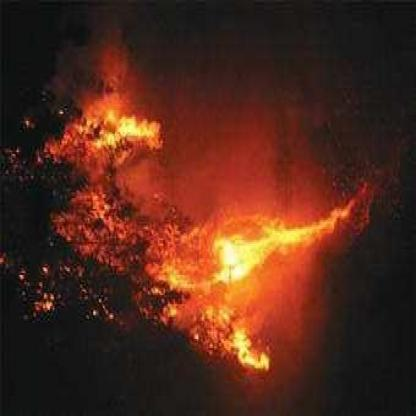fire: (206, 204, 351, 280), (67, 96, 162, 160), (226, 324, 270, 376), (155, 262, 193, 294)
